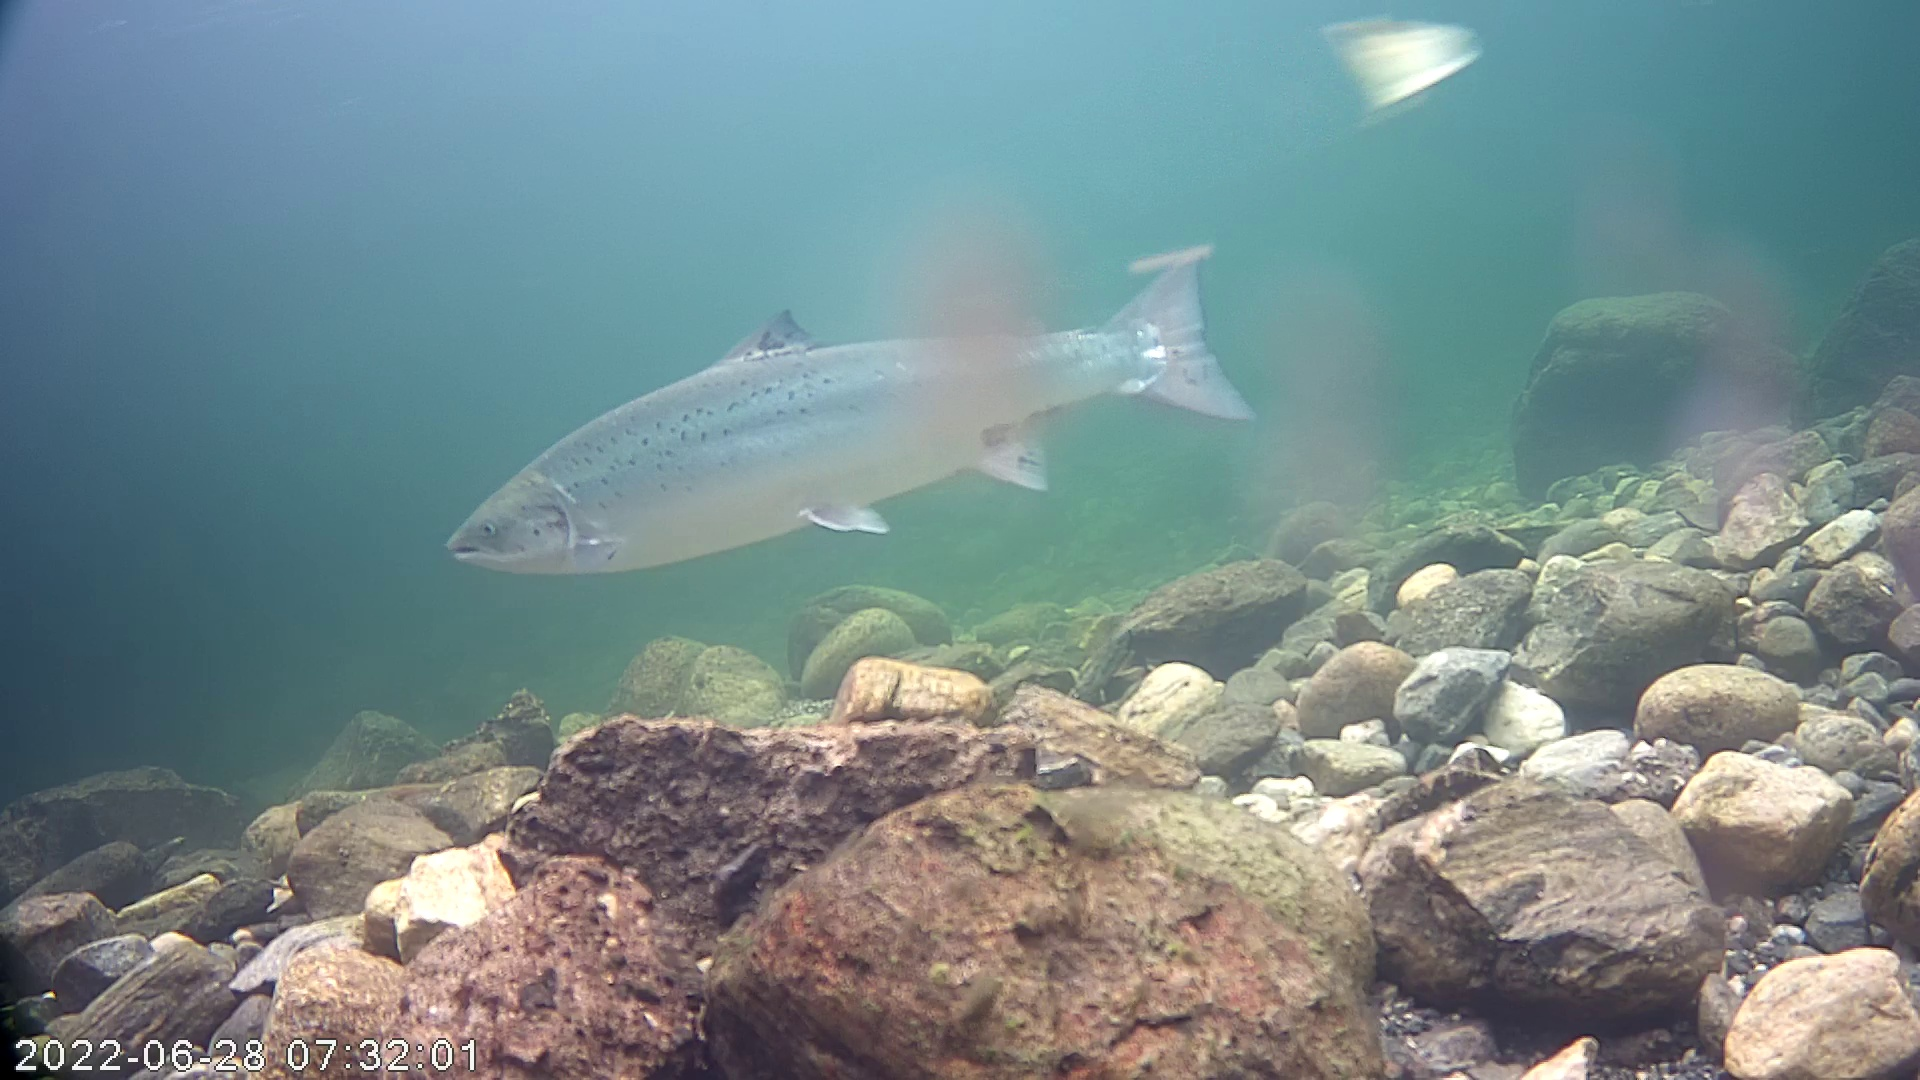salmon: (440, 195, 1278, 618)
